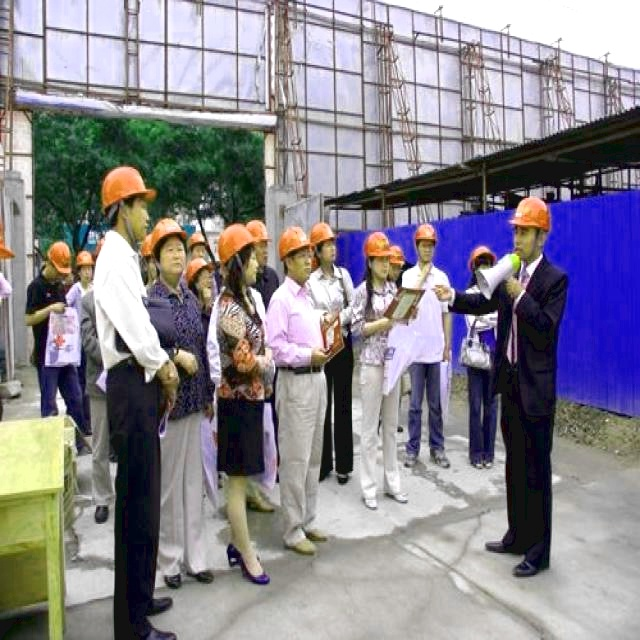Con_Casco: (109, 169, 146, 236), (511, 197, 549, 253)
